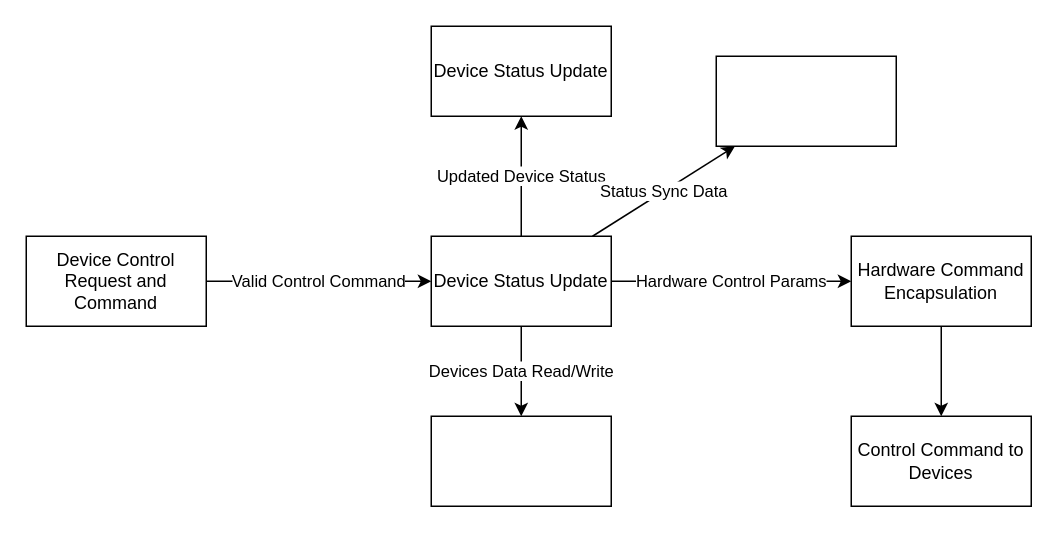
Image size: 1058x533. Some labels were removed from this diagram. The shapes that lost their labels are listed below. From the top down, each one's centre as x and y in pixels, then its label:
At point 805,100: "Status Sync".
At point 520,460: "Device Data Persistence".
